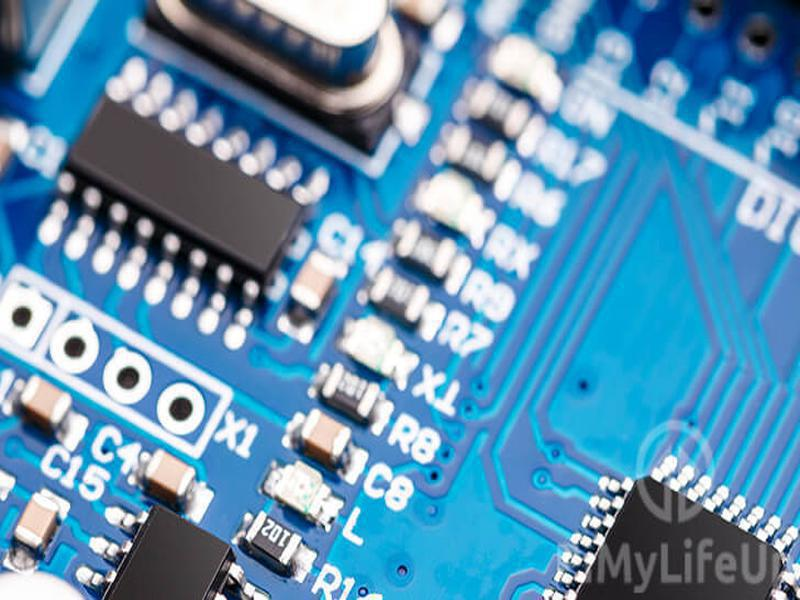SMD capacitor: (18, 376, 77, 440), (140, 451, 199, 514), (302, 408, 352, 474), (16, 491, 60, 563), (295, 253, 335, 321)
SMD resistor: (238, 511, 303, 573), (320, 364, 380, 426)
